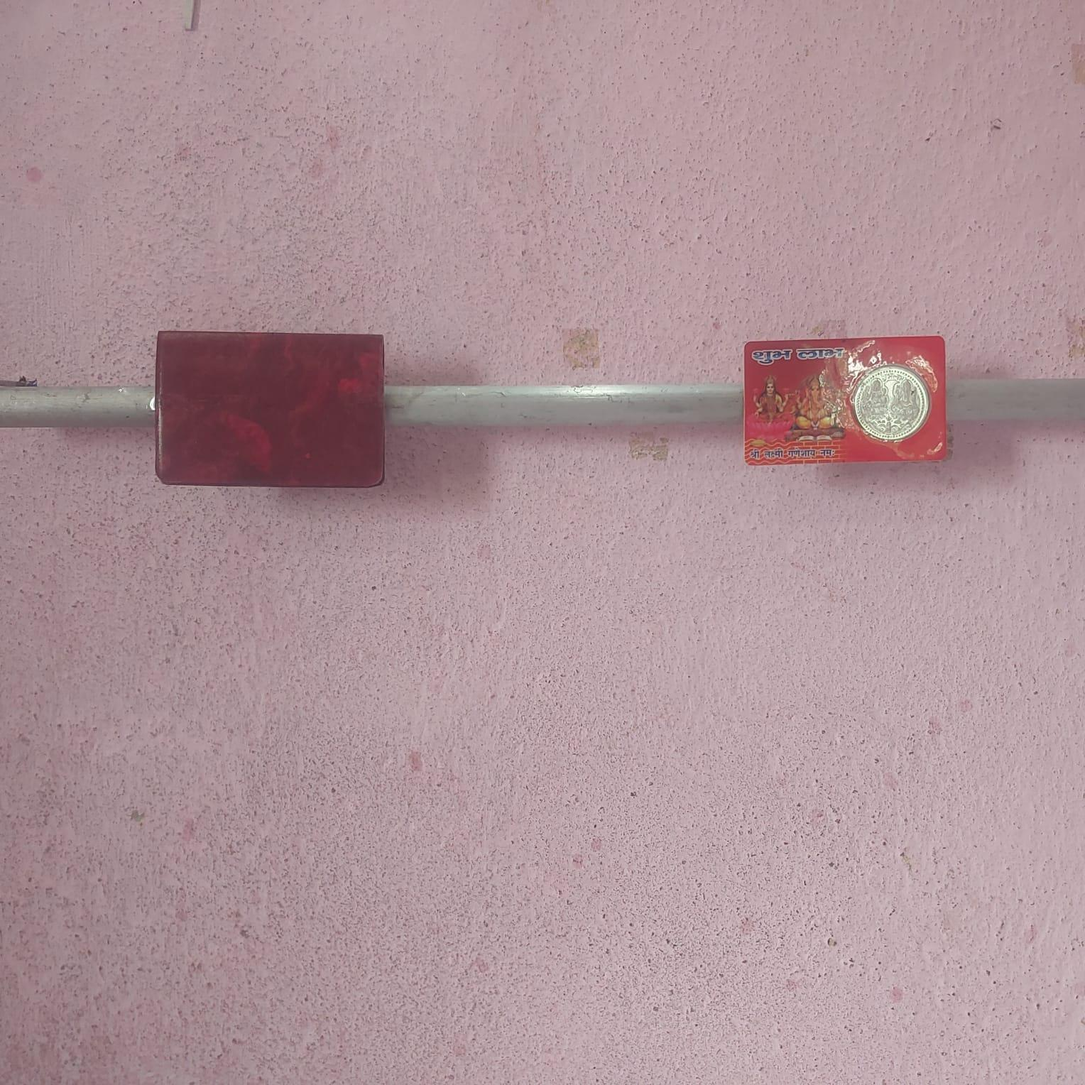blessing_card: (737, 333, 956, 466)
wallet: (146, 331, 386, 488)
